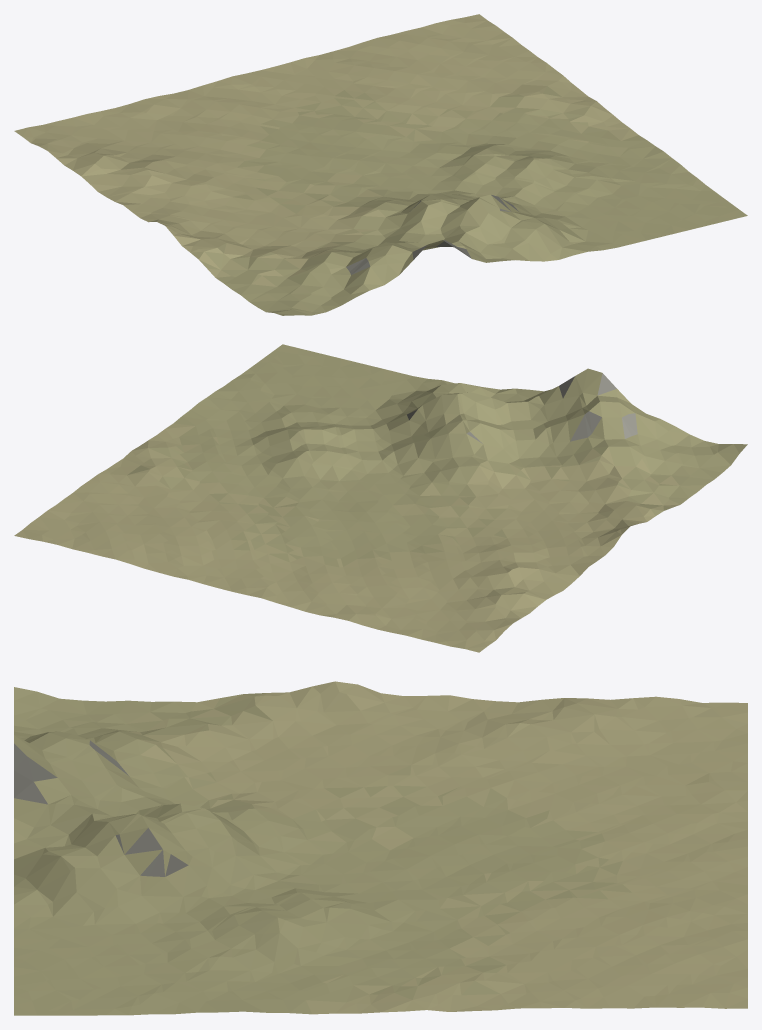
File: Ground_0_1.glb
3 views of the same model, one above another, from view 1: azimuth 30°, elevation 25°; view 2: azimuth 150°, elevation 25°; view 3: azimuth 270°, elevation 25° (orthographic). The views are drawn at different scales.
Visible parts, largest first — view 1: Ground_0_1; view 2: Ground_0_1; view 3: Ground_0_1.
Boxes of the visible parts, x1=… form: Ground_0_1: x1=14, y1=14, x2=747, y2=315; Ground_0_1: x1=14, y1=344, x2=747, y2=652; Ground_0_1: x1=14, y1=681, x2=747, y2=1015.
Size of the model in its own units: 768 by 79.29 by 768.
